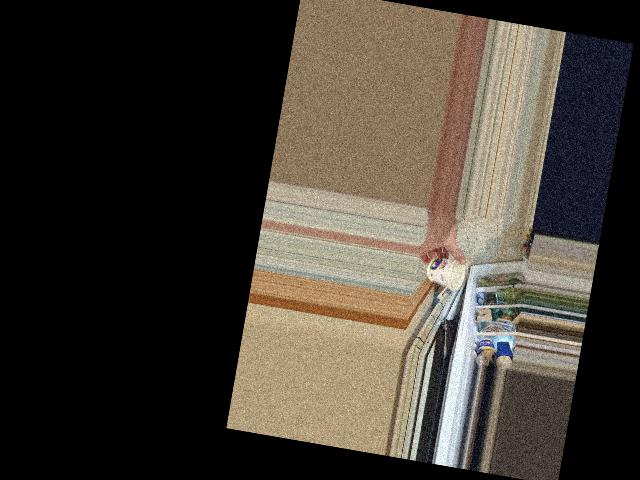cotage: (424, 255, 468, 291)
